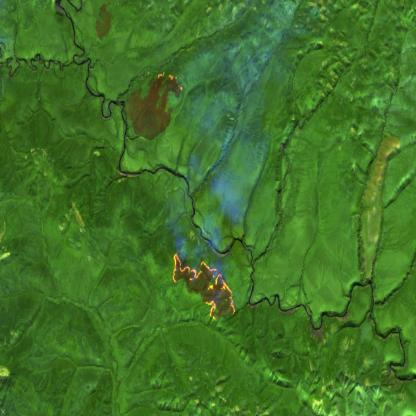fire: (172, 249, 237, 320)
